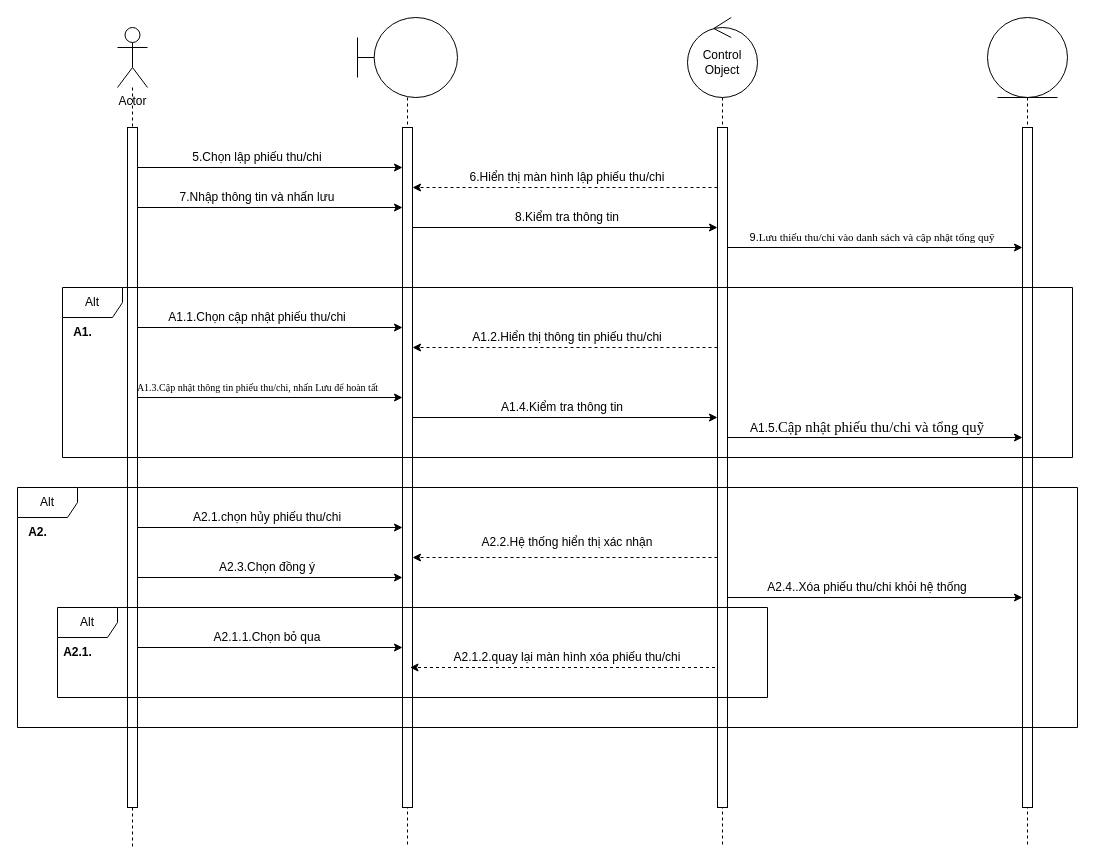
The diagram is 1095 pixels wide and 866 high, and some of its shapes have lost their labels. The shapes that lost their labels are listed below. From the top down, each one's centre as x and y in pixels, then its label:
At point (407, 57): "Sổ quỹ".
At point (1027, 57): "Entity Object".
